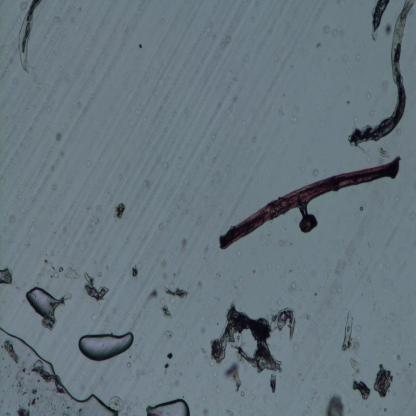Air bubble: (0, 327, 119, 415), (79, 331, 135, 363), (26, 286, 65, 323), (142, 396, 191, 416)
Background material: (220, 359, 245, 399), (82, 272, 110, 304), (374, 363, 394, 401), (341, 308, 358, 352), (112, 392, 140, 416), (349, 376, 373, 401), (325, 393, 345, 416), (39, 260, 63, 279), (86, 205, 102, 230), (163, 283, 188, 299), (143, 283, 161, 304), (226, 93, 238, 118), (374, 144, 389, 164), (112, 201, 127, 220), (334, 257, 348, 277), (63, 267, 82, 280), (0, 265, 13, 284), (176, 233, 191, 249), (91, 309, 106, 325), (349, 356, 359, 378), (162, 353, 174, 371), (160, 302, 171, 320), (288, 279, 302, 293), (53, 128, 64, 144), (130, 264, 140, 281), (384, 19, 392, 38), (270, 374, 277, 395), (220, 36, 231, 49), (162, 329, 173, 340), (141, 175, 152, 186), (340, 52, 350, 64), (290, 114, 301, 124), (364, 91, 374, 102), (24, 236, 32, 249), (199, 406, 209, 416), (312, 166, 320, 178), (161, 257, 168, 270), (196, 280, 203, 292), (314, 42, 324, 50), (64, 291, 72, 301), (226, 408, 236, 416), (50, 183, 57, 193), (214, 272, 222, 280), (354, 54, 362, 62), (317, 121, 325, 129), (235, 249, 242, 258), (162, 159, 167, 171), (161, 272, 168, 280), (125, 362, 132, 370), (323, 25, 330, 33), (339, 30, 346, 38), (277, 297, 283, 306), (332, 29, 338, 38), (212, 155, 217, 164), (238, 276, 244, 283), (274, 55, 280, 62), (199, 329, 206, 335), (200, 346, 206, 353), (346, 68, 351, 76), (305, 314, 311, 320), (352, 115, 357, 122), (367, 240, 372, 247), (336, 0, 341, 4), (252, 270, 257, 274), (314, 293, 318, 297), (173, 272, 176, 277)
Cellulose filter fibre: (345, 1, 416, 147), (210, 302, 297, 375), (18, 2, 42, 74), (369, 1, 391, 43)
Cotton: (217, 158, 401, 250)
